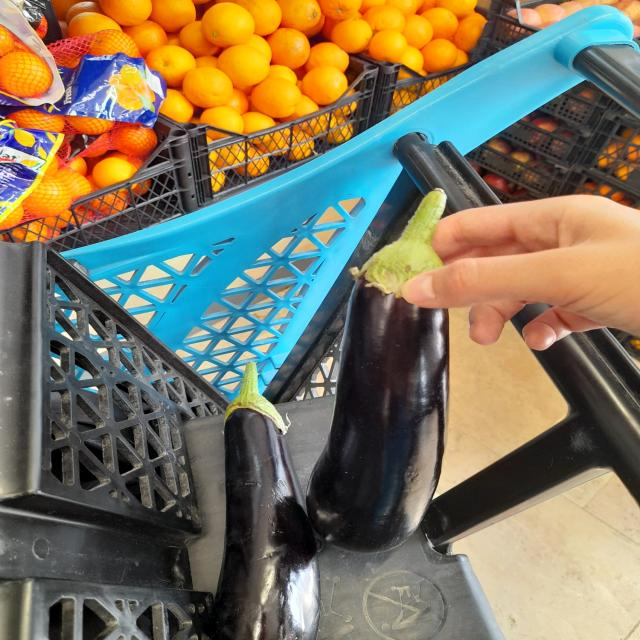eggplant: (304, 189, 460, 551), (199, 358, 323, 640)
